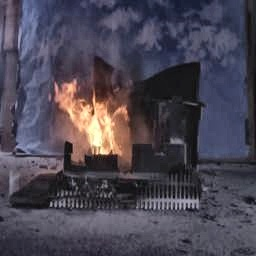fire: (49, 66, 133, 158)
